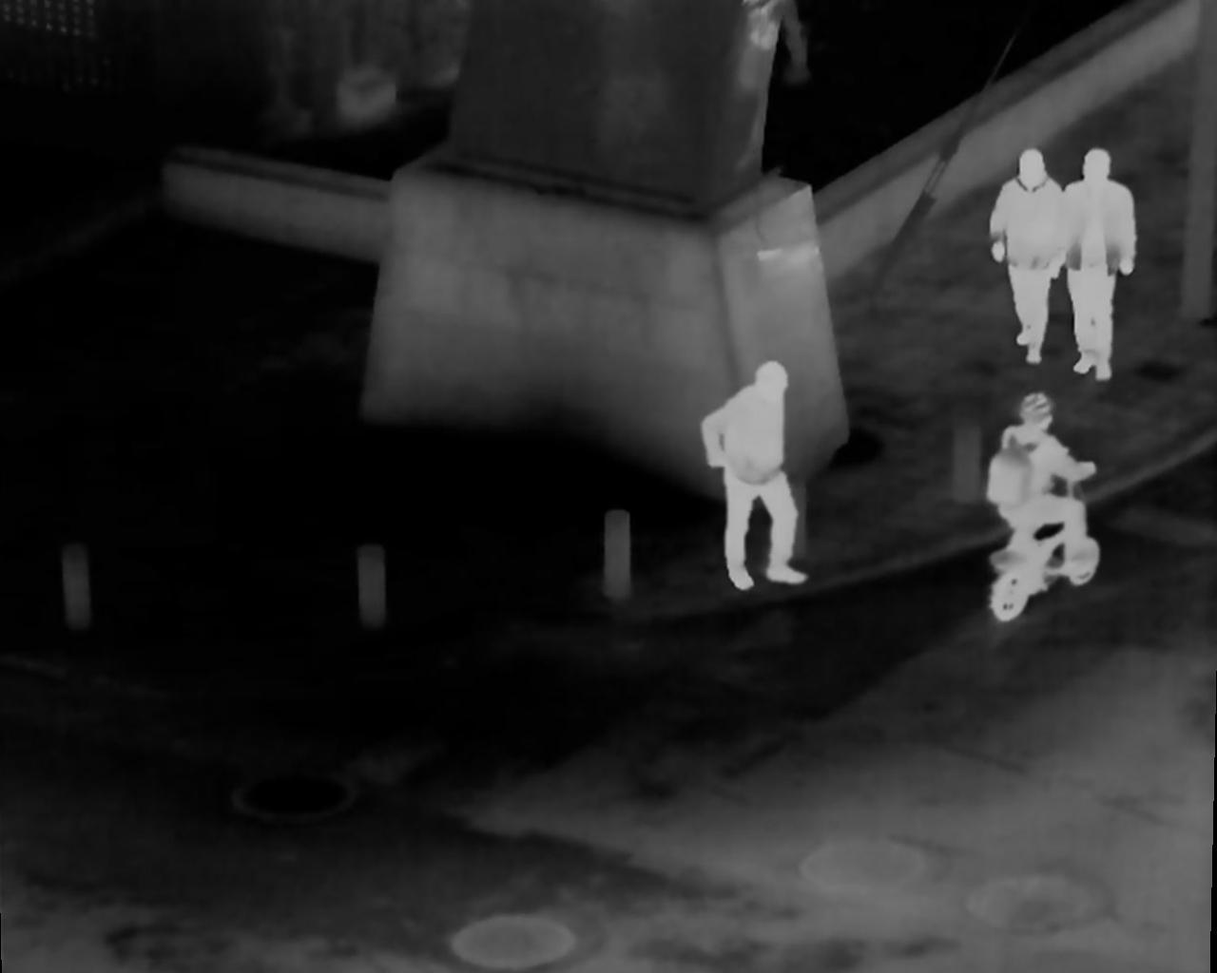person: (972, 391, 1088, 614), (980, 148, 1088, 370), (705, 361, 806, 586), (1059, 142, 1149, 376)
